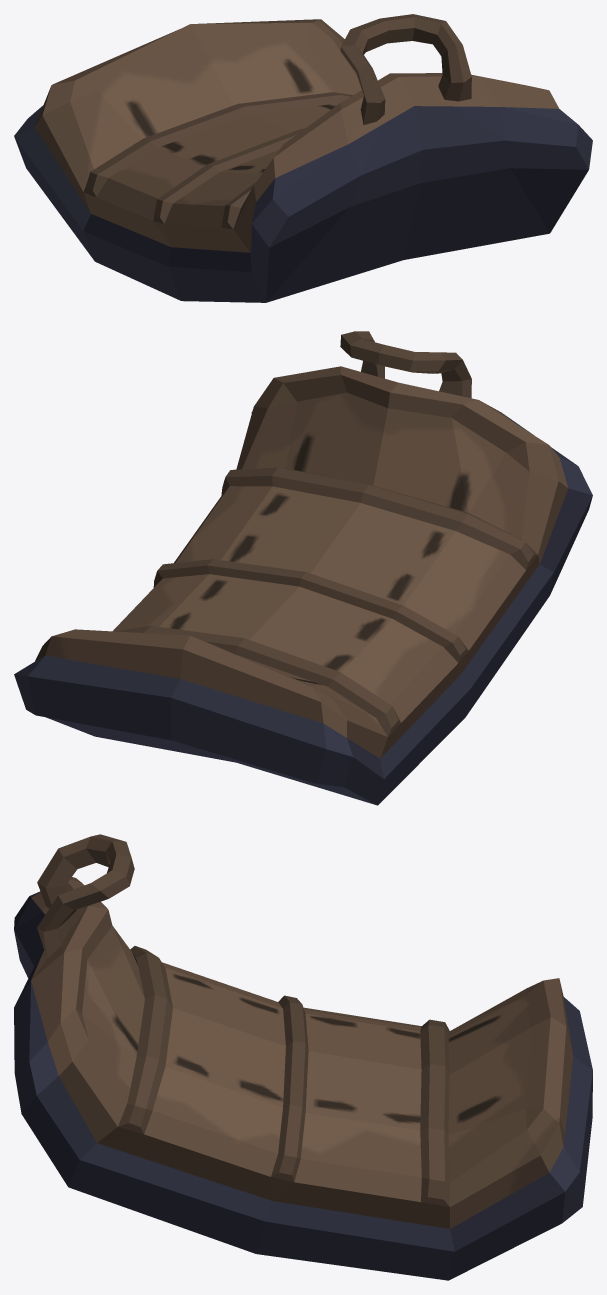
Rendered from SM_Chr_Attach_Saddle_Seat_Wolf_01.fbx.
The picture shows the model from 3 angles, top to bottom: view 1: azimuth 30°, elevation 25°; view 2: azimuth 150°, elevation 25°; view 3: azimuth 270°, elevation 25°; orthographic projection. The views are drawn at different scales.
Visible parts, largest first — view 1: SM_Chr_Attach_Saddle_Seat_Wolf_01; view 2: SM_Chr_Attach_Saddle_Seat_Wolf_01; view 3: SM_Chr_Attach_Saddle_Seat_Wolf_01.
Part boxes in pixels (x1,y1,x2,y2): SM_Chr_Attach_Saddle_Seat_Wolf_01: [14, 14, 592, 302]; SM_Chr_Attach_Saddle_Seat_Wolf_01: [14, 331, 592, 805]; SM_Chr_Attach_Saddle_Seat_Wolf_01: [14, 834, 592, 1280].
Bounding box in the file's own units: 29.88 × 26.45 × 39.64.
